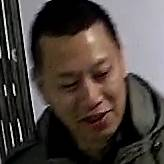qg: (30, 21, 150, 141)
